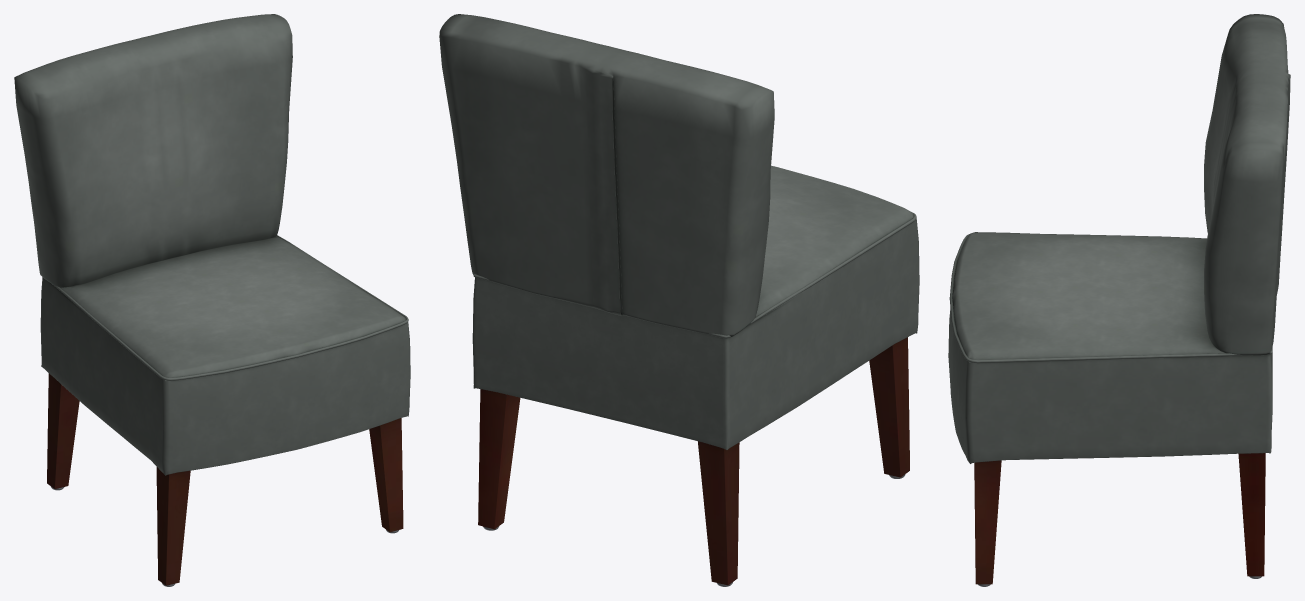
File: office_chair_B072PZJZY3.glb
3 views of the same model, side by side, from view 1: azimuth 30°, elevation 25°; view 2: azimuth 150°, elevation 25°; view 3: azimuth 270°, elevation 25° (orthographic). The views are drawn at different scales.
Parts seen in each view (by area): view 1: RootNode; view 2: RootNode; view 3: RootNode.
Part boxes in pixels (<box>): RootNode: <box>14,14,410,586</box>; RootNode: <box>439,14,919,586</box>; RootNode: <box>948,14,1290,586</box>.
Bounding box in the file's own units: 0.5215 × 0.8055 × 0.5538.
Materials: 1 (1 with a texture image).
